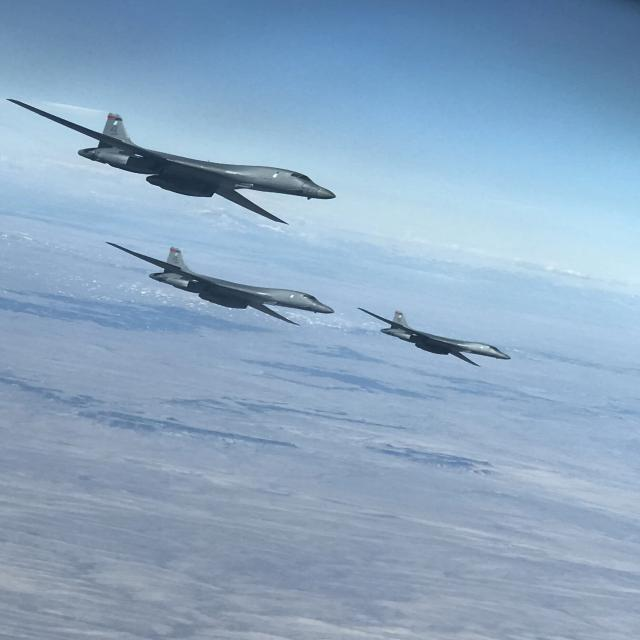MIL_Plane: (0, 34, 273, 160), (105, 242, 335, 326), (388, 301, 479, 360)
